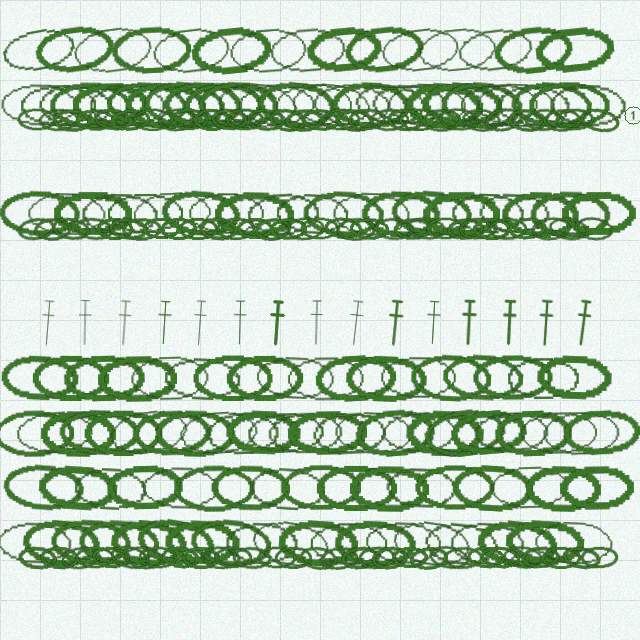chain: (247, 513, 333, 573), (133, 513, 219, 572), (421, 404, 509, 461), (388, 514, 474, 572), (0, 20, 82, 80), (32, 21, 118, 78), (69, 21, 155, 78), (105, 404, 191, 461), (377, 22, 464, 78), (214, 77, 301, 132), (148, 22, 233, 78), (453, 22, 538, 78), (342, 22, 427, 77), (491, 22, 576, 77), (188, 515, 273, 570), (188, 23, 273, 77), (414, 23, 499, 77), (288, 78, 373, 132), (474, 516, 559, 570), (532, 23, 616, 77), (419, 516, 502, 570), (439, 79, 525, 131), (142, 78, 226, 131), (159, 187, 243, 240), (389, 187, 473, 240), (1, 461, 85, 514), (353, 406, 436, 459), (20, 516, 103, 569), (509, 79, 593, 131), (176, 407, 260, 459), (266, 23, 348, 76), (255, 78, 337, 131), (448, 406, 530, 459), (108, 516, 190, 569), (226, 24, 309, 76), (105, 79, 188, 131), (245, 462, 328, 514), (77, 517, 160, 569), (304, 23, 385, 76), (350, 78, 431, 131), (313, 352, 397, 403), (450, 462, 534, 513), (49, 517, 133, 568), (36, 462, 118, 514), (420, 79, 503, 130), (130, 188, 213, 239), (409, 352, 492, 403), (441, 352, 524, 403), (276, 517, 359, 568), (403, 79, 484, 131), (123, 80, 207, 130), (110, 24, 192, 75), (13, 407, 95, 458), (503, 517, 585, 568), (160, 353, 243, 403), (253, 353, 336, 403), (344, 353, 427, 403), (333, 518, 416, 568), (362, 518, 445, 568), (243, 188, 324, 239), (308, 407, 389, 458), (385, 80, 469, 129), (474, 80, 558, 129), (310, 80, 392, 130), (302, 189, 384, 239), (131, 408, 213, 458), (244, 408, 326, 458), (332, 408, 414, 458), (532, 518, 614, 568), (197, 80, 280, 129), (330, 189, 413, 238), (62, 353, 145, 402), (58, 408, 141, 457), (34, 80, 115, 130), (272, 189, 353, 239), (0, 353, 81, 403), (265, 408, 346, 458), (70, 463, 151, 513), (447, 518, 528, 568), (561, 407, 640, 458), (162, 80, 244, 129), (330, 80, 412, 129), (546, 80, 628, 129), (78, 189, 160, 238), (360, 189, 442, 238), (128, 353, 210, 402), (488, 463, 570, 512), (494, 80, 574, 130), (49, 81, 132, 129), (529, 190, 612, 238), (154, 409, 237, 457), (173, 464, 256, 512), (368, 80, 449, 129), (379, 408, 460, 457), (471, 408, 552, 457), (493, 408, 574, 457), (540, 408, 621, 457), (382, 463, 461, 513), (25, 190, 107, 238), (518, 409, 600, 457), (307, 519, 389, 567), (0, 189, 80, 238), (448, 189, 528, 238), (203, 408, 283, 457), (404, 408, 484, 457), (105, 463, 185, 512), (222, 518, 302, 567), (528, 81, 611, 128), (458, 81, 539, 129), (213, 190, 294, 238), (500, 190, 581, 238), (96, 354, 177, 402), (286, 409, 367, 457), (348, 464, 429, 512), (475, 189, 554, 238), (535, 353, 614, 402), (224, 408, 303, 457), (163, 518, 242, 567), (273, 81, 355, 128), (192, 354, 274, 401), (472, 354, 554, 401), (315, 464, 397, 511), (414, 464, 496, 511), (183, 81, 263, 129), (236, 81, 316, 129), (285, 354, 365, 402), (140, 464, 220, 512), (210, 464, 290, 512), (17, 81, 98, 128), (87, 81, 168, 128), (104, 190, 185, 237), (186, 190, 267, 237), (378, 354, 459, 401), (83, 409, 164, 456), (280, 464, 361, 511), (0, 81, 79, 129), (71, 81, 150, 129), (39, 409, 118, 457), (524, 464, 603, 512), (52, 190, 132, 237), (31, 354, 111, 401), (225, 354, 305, 401), (0, 518, 75, 568), (558, 464, 636, 512), (421, 190, 500, 237), (504, 354, 583, 401), (560, 190, 638, 237), (0, 409, 74, 457), (108, 542, 152, 573), (578, 105, 621, 135), (427, 543, 470, 572), (547, 215, 590, 243), (483, 105, 524, 134), (50, 215, 92, 243), (60, 544, 102, 572), (560, 544, 602, 572), (267, 106, 308, 134), (16, 215, 57, 243), (405, 215, 447, 242), (530, 215, 572, 242), (479, 544, 521, 571), (502, 544, 544, 571), (298, 544, 338, 572), (92, 106, 133, 133), (157, 106, 198, 133), (323, 215, 364, 242), (507, 215, 548, 242), (573, 215, 614, 242), (123, 544, 164, 571), (160, 544, 201, 571), (109, 107, 151, 133), (73, 216, 115, 242), (370, 544, 410, 571), (408, 545, 449, 571), (246, 107, 286, 133), (301, 107, 341, 133), (334, 107, 374, 133), (461, 107, 501, 133), (507, 107, 547, 133), (108, 216, 148, 242), (253, 216, 293, 242), (319, 545, 359, 571), (438, 107, 479, 132), (458, 216, 499, 241), (200, 545, 241, 570), (446, 216, 485, 242), (347, 107, 387, 132), (198, 216, 238, 241), (285, 216, 325, 241), (17, 545, 57, 570), (39, 545, 79, 570), (91, 545, 131, 570), (340, 545, 380, 570), (466, 545, 506, 570), (520, 545, 560, 570), (38, 108, 79, 132), (121, 217, 162, 241), (336, 217, 377, 241), (210, 107, 249, 132), (386, 107, 425, 132), (357, 545, 396, 570), (75, 108, 115, 132), (284, 108, 324, 132), (369, 108, 409, 132), (524, 108, 564, 132), (33, 217, 73, 241), (349, 217, 389, 241), (374, 217, 414, 241), (232, 546, 272, 570), (443, 546, 483, 570), (52, 108, 91, 132), (422, 108, 461, 132), (269, 217, 308, 241), (393, 217, 432, 241), (488, 217, 527, 241), (17, 108, 57, 131), (133, 108, 173, 131), (225, 108, 265, 131), (178, 217, 218, 240), (426, 217, 466, 240), (75, 546, 115, 569), (257, 546, 297, 569), (541, 546, 581, 569), (543, 108, 581, 132), (170, 108, 209, 131), (321, 108, 360, 131), (399, 108, 438, 131), (555, 108, 594, 131), (142, 217, 181, 240), (216, 217, 255, 240), (300, 217, 339, 240), (472, 217, 511, 240), (138, 546, 177, 569), (181, 546, 220, 569), (214, 546, 253, 569), (580, 546, 619, 569), (193, 108, 231, 131), (96, 217, 134, 240), (160, 217, 198, 240), (236, 217, 274, 240), (274, 546, 312, 569), (391, 546, 429, 569)
half_double: (344, 299, 367, 347), (572, 299, 595, 347), (384, 299, 406, 347), (37, 299, 58, 347), (114, 299, 135, 347), (189, 299, 210, 347), (266, 299, 287, 347), (536, 299, 556, 347), (154, 299, 174, 346), (423, 299, 443, 346), (459, 299, 479, 346), (499, 299, 519, 346), (230, 299, 249, 346), (307, 299, 326, 346), (76, 299, 94, 346)
noise: (622, 104, 640, 126)
